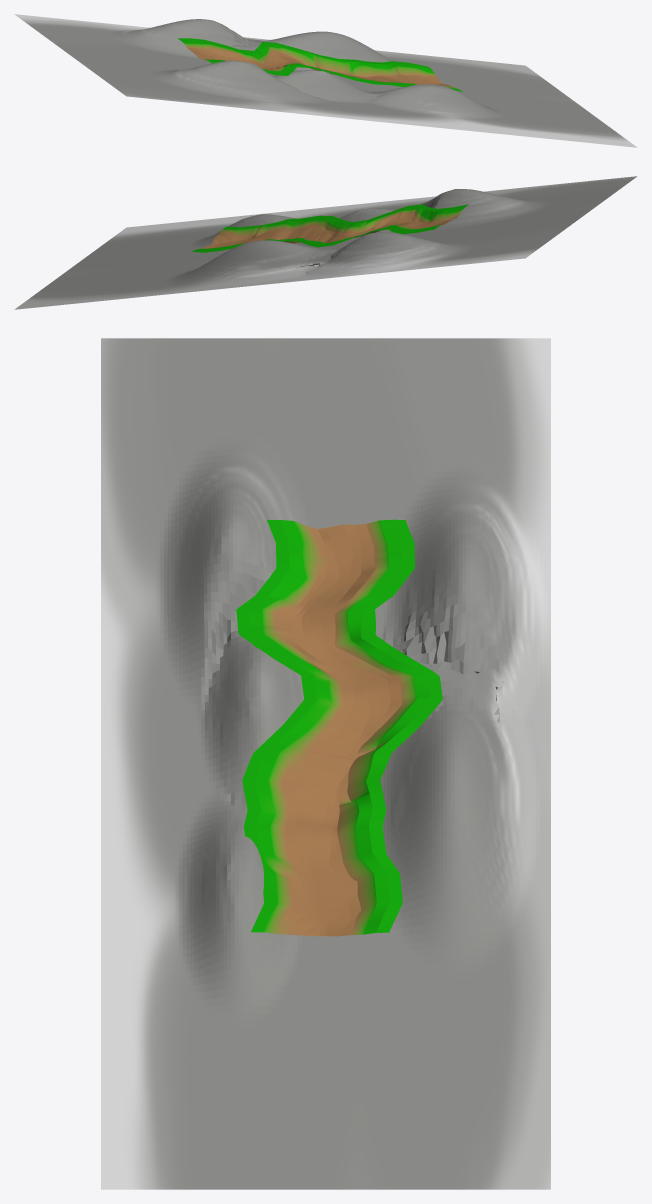
The picture shows the model from 3 angles, top to bottom: view 1: azimuth 30°, elevation 25°; view 2: azimuth 150°, elevation 25°; view 3: azimuth 270°, elevation 25°; orthographic projection. The views are drawn at different scales.
Parts seen in each view (by area): view 1: Plane.001, NurbsPath; view 2: Plane.001, NurbsPath; view 3: Plane.001, NurbsPath.
Boxes of the visible parts, bbox=[...] form: Plane.001: bbox=[14, 14, 637, 147]; NurbsPath: bbox=[178, 38, 462, 91]; Plane.001: bbox=[14, 176, 637, 309]; NurbsPath: bbox=[192, 204, 468, 252]; Plane.001: bbox=[101, 338, 550, 1189]; NurbsPath: bbox=[236, 519, 442, 936].
Size of the model in its own units: 10978 by 3613 by 4183.
